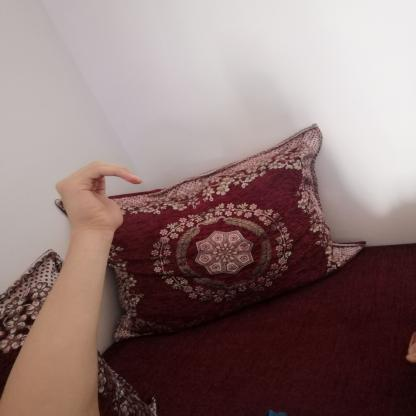HAA: (43, 154, 153, 240)
